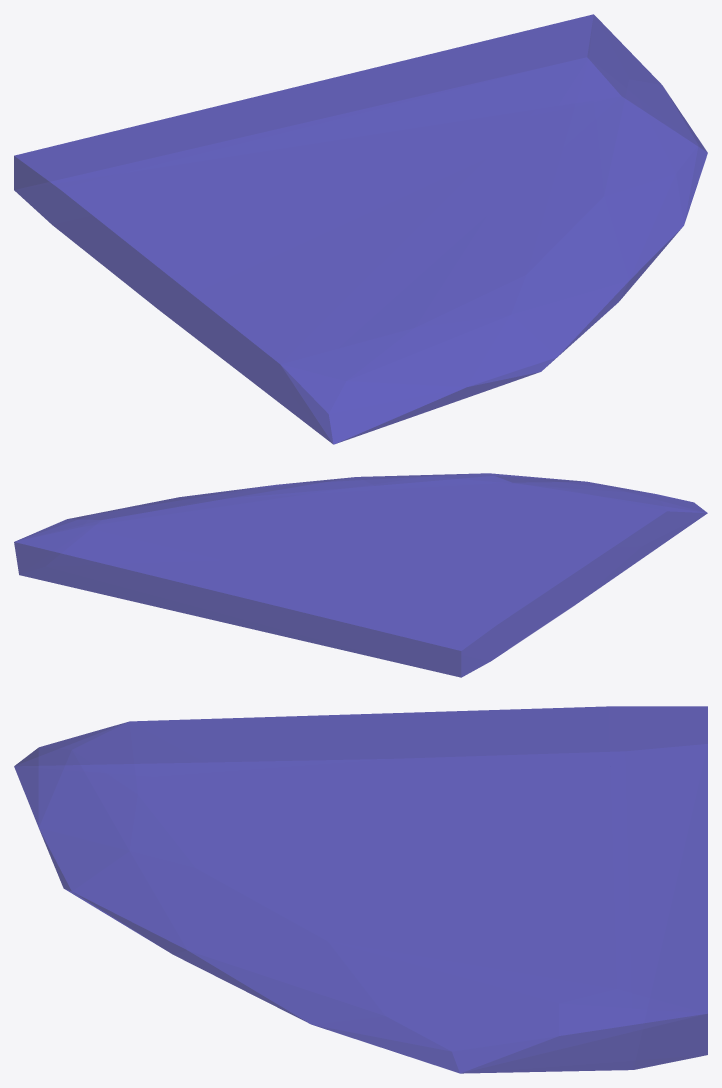
The picture shows the model from 3 angles, top to bottom: view 1: azimuth 30°, elevation 25°; view 2: azimuth 150°, elevation 25°; view 3: azimuth 270°, elevation 25°; orthographic projection. The views are drawn at different scales.
Parts seen in each view (by area): view 1: Shape_IndexedFaceSet.013_Shape_IndexedFaceSet.9024; view 2: Shape_IndexedFaceSet.013_Shape_IndexedFaceSet.9024; view 3: Shape_IndexedFaceSet.013_Shape_IndexedFaceSet.9024.
Part boxes in pixels (bbox=[...]): Shape_IndexedFaceSet.013_Shape_IndexedFaceSet.9024: bbox=[14, 14, 707, 444]; Shape_IndexedFaceSet.013_Shape_IndexedFaceSet.9024: bbox=[14, 473, 707, 677]; Shape_IndexedFaceSet.013_Shape_IndexedFaceSet.9024: bbox=[14, 706, 707, 1073].
Size of the model in its own units: 0.2048 by 0.0186 by 0.1955.
